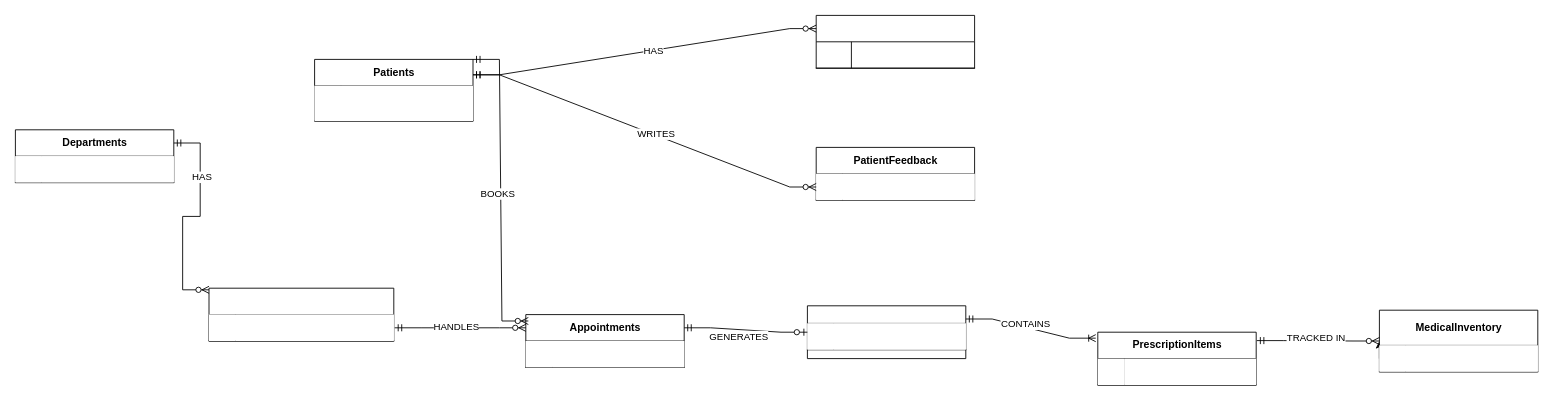
Some shapes in this 1553 by 400 pixel diagram are drawn without their labels. Here are the shapes that lost their labels. From the top down, the box of each, then its label:
(815, 15, 975, 68): MedicalLogs
(208, 287, 394, 341): Doctor
(807, 305, 966, 359): Prescriptions
